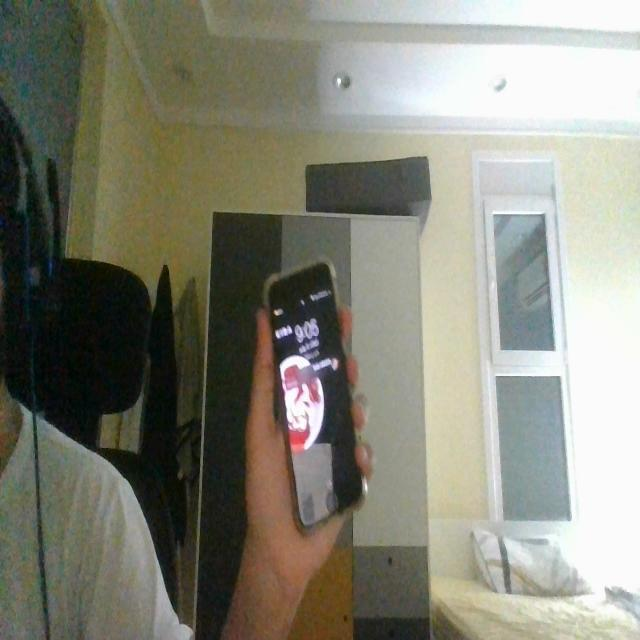Phone: (261, 256, 373, 539)
